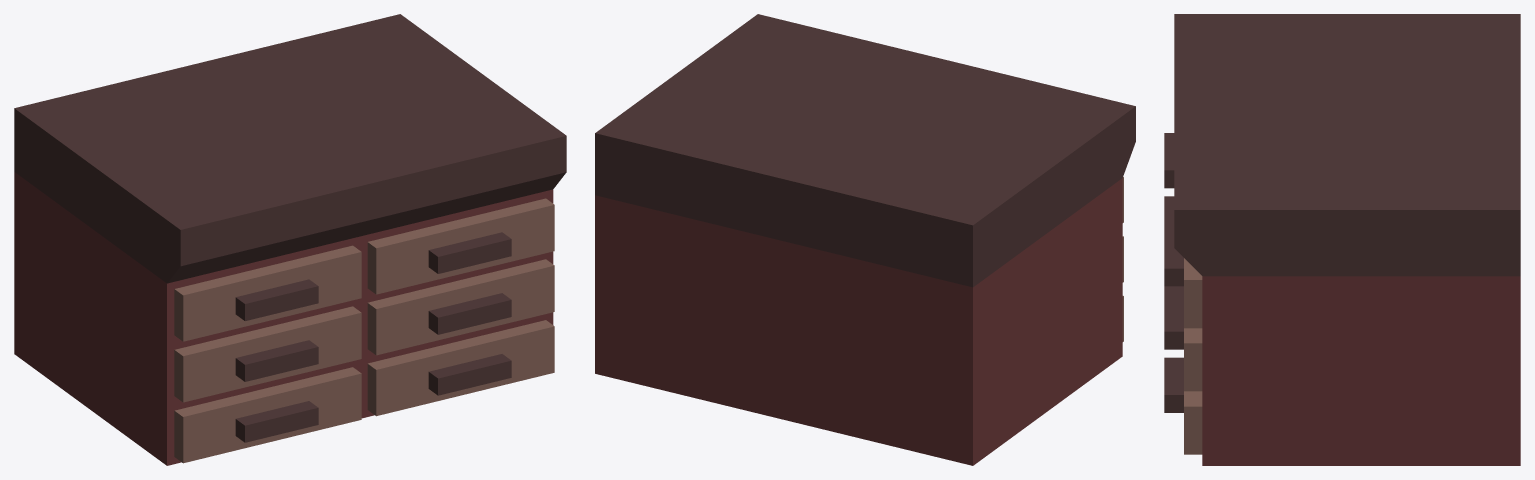
Rendered from LightRoseWoodDecorationSmallDrawers1.fbx.
The picture shows the model from 3 angles, left to right: view 1: azimuth 30°, elevation 25°; view 2: azimuth 150°, elevation 25°; view 3: azimuth 270°, elevation 25°; orthographic projection. The views are drawn at different scales.
Visible parts, largest first — view 1: LightRoseWoodDecorationSmallDrawers1; view 2: LightRoseWoodDecorationSmallDrawers1; view 3: LightRoseWoodDecorationSmallDrawers1.
Part boxes in pixels (x1=…): LightRoseWoodDecorationSmallDrawers1: x1=14, y1=14, x2=566, y2=465; LightRoseWoodDecorationSmallDrawers1: x1=595, y1=14, x2=1135, y2=465; LightRoseWoodDecorationSmallDrawers1: x1=1164, y1=14, x2=1520, y2=465.
Size of the model in its own units: 200 by 122 by 153.
